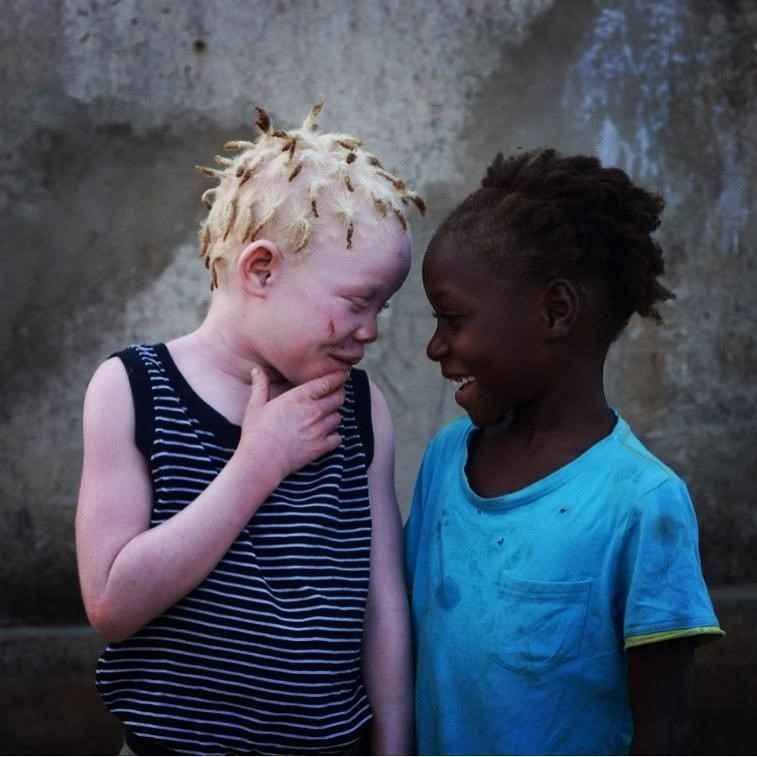face_no_mask: (424, 170, 640, 431), (203, 135, 415, 397)
